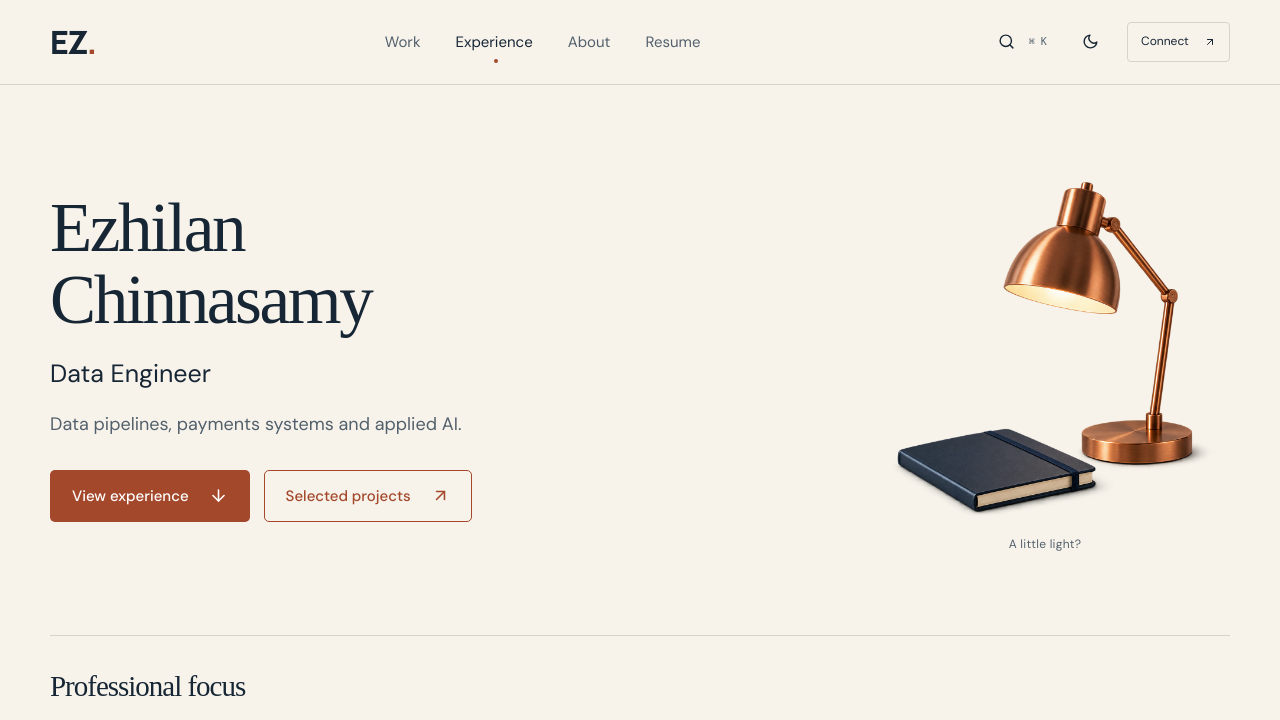
Test: theme persists and visible navigation reaches About
Click the button named "Switch to dark theme".
click(1090, 42)  # box [1071,23,1109,61]
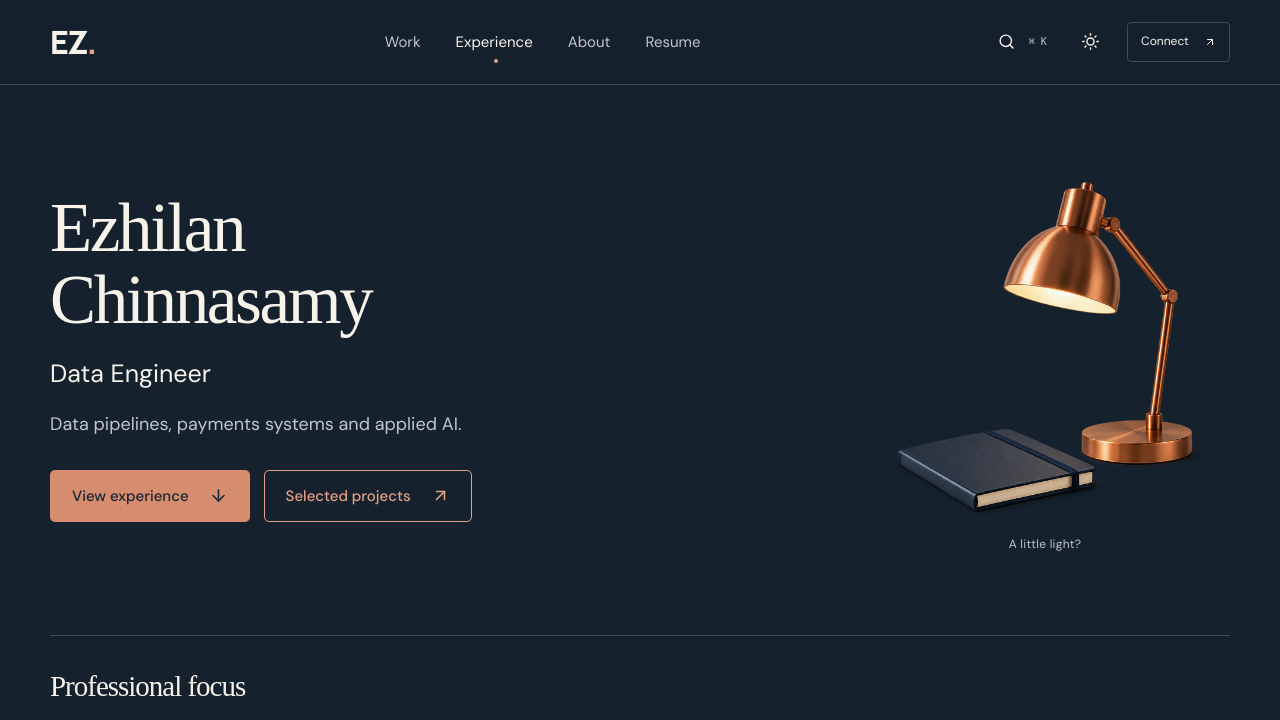
Click the link "About".
click(589, 42)  # box [568,32,610,52]
(page scrolled)
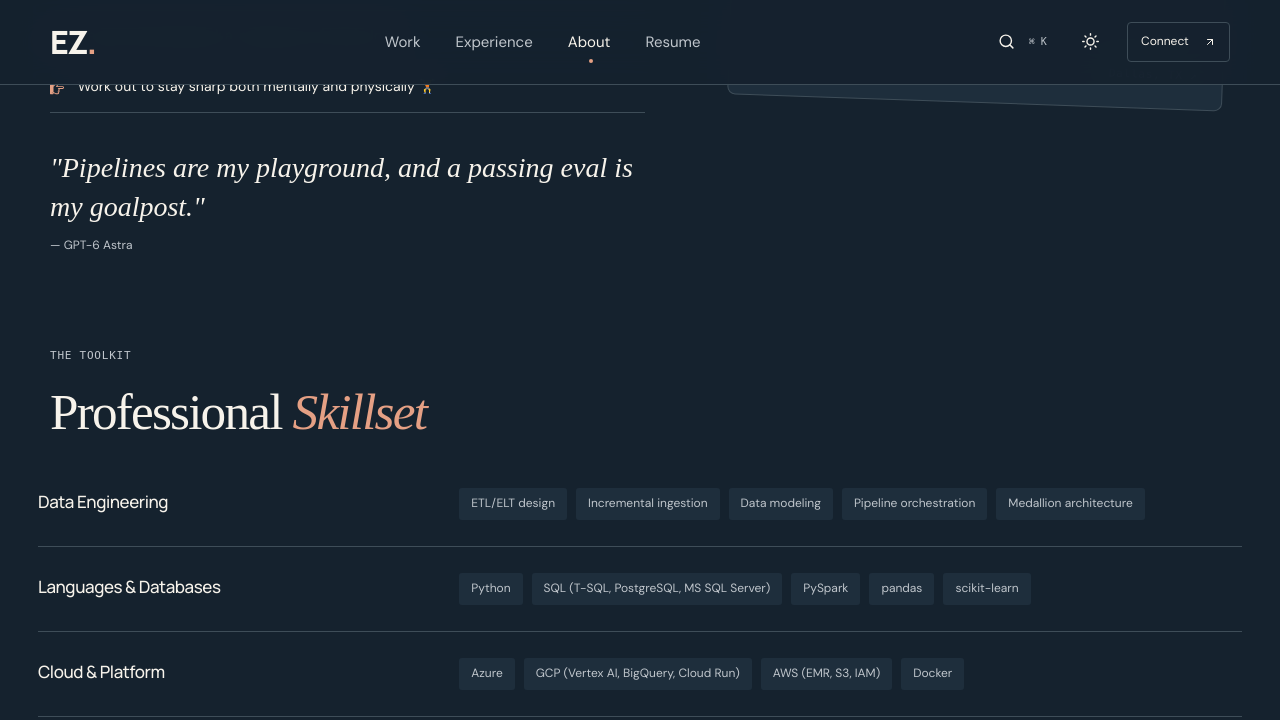
Expected: the heading "Professional Skillset" is shown, [50,383,426,442]
